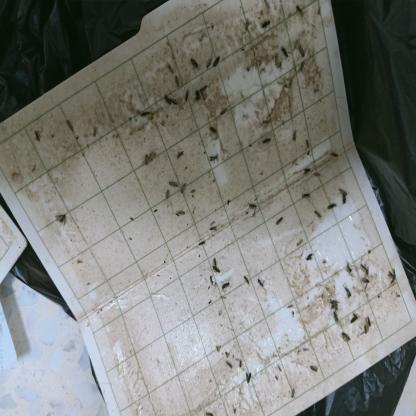prays_oleae: (55, 213, 72, 233), (340, 283, 356, 304), (188, 54, 202, 76), (208, 151, 226, 168), (337, 185, 349, 210), (327, 195, 337, 224), (182, 86, 193, 112), (387, 263, 397, 290), (338, 325, 353, 343), (274, 212, 286, 234), (327, 140, 338, 164), (210, 122, 221, 144), (174, 149, 188, 166), (361, 277, 372, 297), (313, 206, 323, 228), (345, 260, 355, 282), (262, 14, 272, 36), (279, 39, 289, 61), (294, 4, 305, 24), (210, 257, 223, 273), (359, 259, 371, 276), (138, 104, 150, 121), (200, 79, 212, 96), (256, 274, 266, 294), (245, 368, 254, 390), (304, 248, 315, 266), (261, 134, 273, 150), (213, 51, 221, 75), (166, 60, 176, 79), (203, 54, 212, 74), (240, 271, 251, 287), (163, 90, 171, 112), (219, 103, 230, 118), (174, 74, 182, 94), (194, 86, 202, 106), (330, 297, 340, 312), (302, 164, 312, 178), (302, 191, 312, 204), (298, 60, 306, 76), (220, 280, 230, 292), (299, 44, 306, 60)
